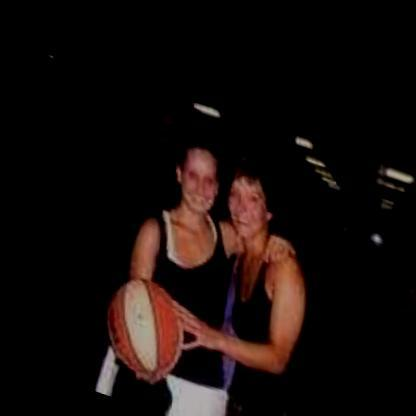basketball: (75, 256, 195, 398)
